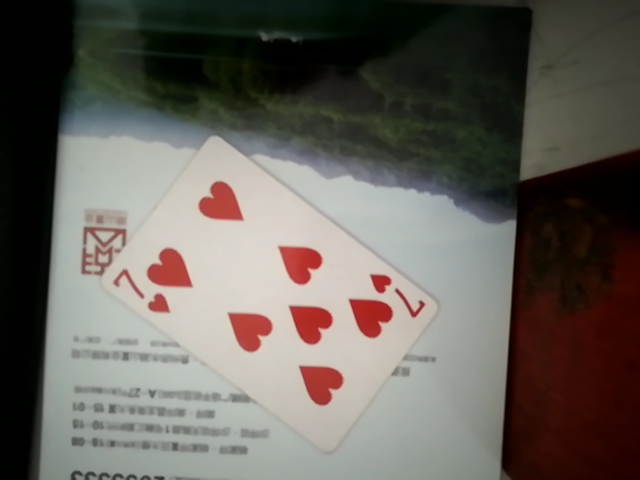hx 7: (76, 134, 459, 442)
